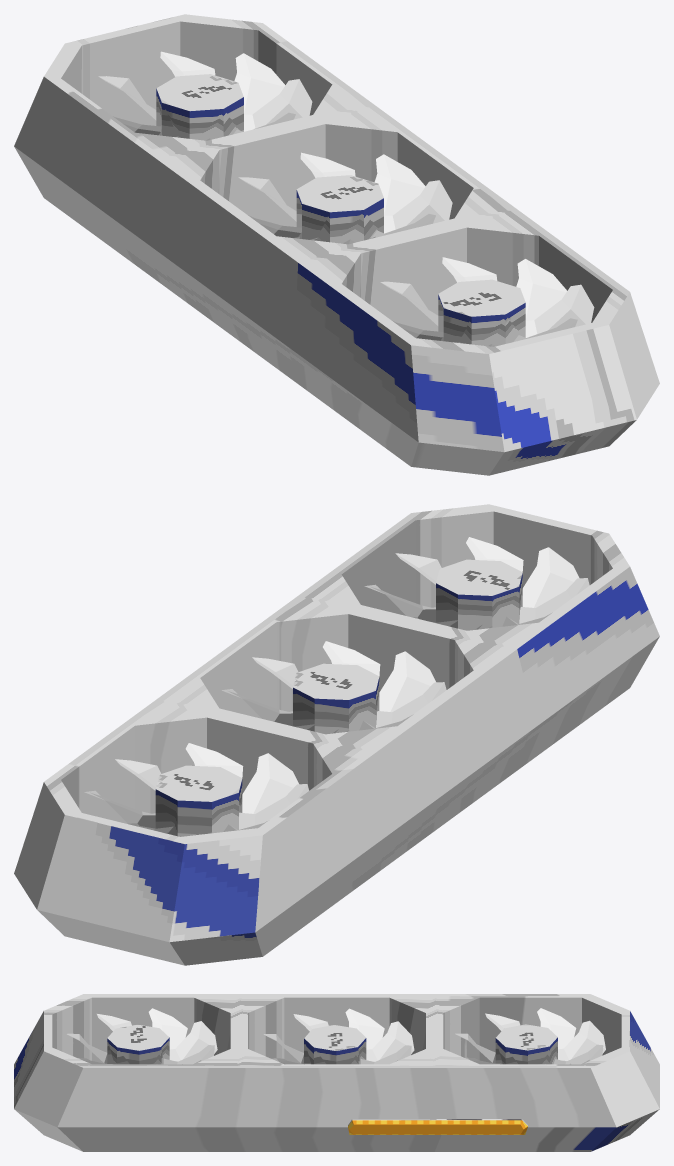
File: Placa_Video_G.fbx
The picture shows the model from 3 angles, top to bottom: view 1: azimuth 30°, elevation 25°; view 2: azimuth 150°, elevation 25°; view 3: azimuth 270°, elevation 25°; orthographic projection. The views are drawn at different scales.
Parts seen in each view (by area): view 1: PlacaV3; view 2: PlacaV3; view 3: PlacaV3.
Boxes of the visible parts, x1,y1,x2,y2 form: PlacaV3: [14, 14, 659, 475]; PlacaV3: [14, 504, 659, 965]; PlacaV3: [14, 994, 659, 1151].
Bounding box in the file's own units: 616 × 283 × 1971.
